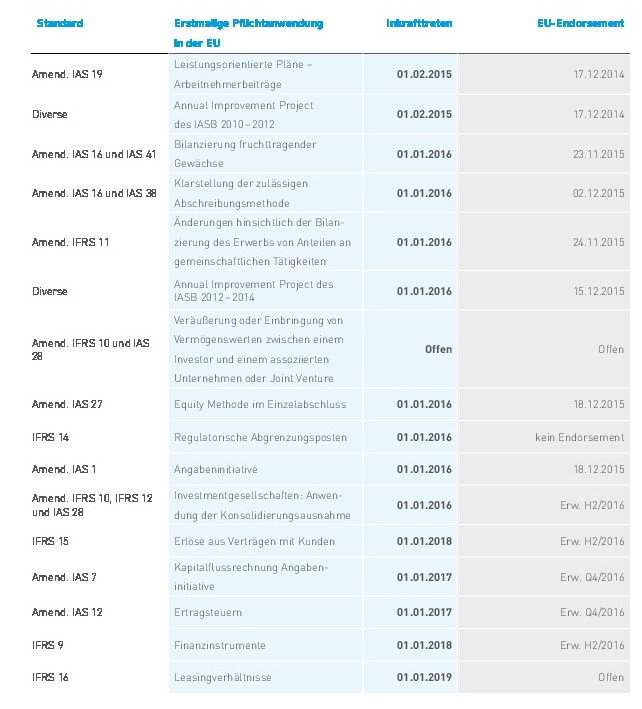table: (0, 0, 642, 709)
